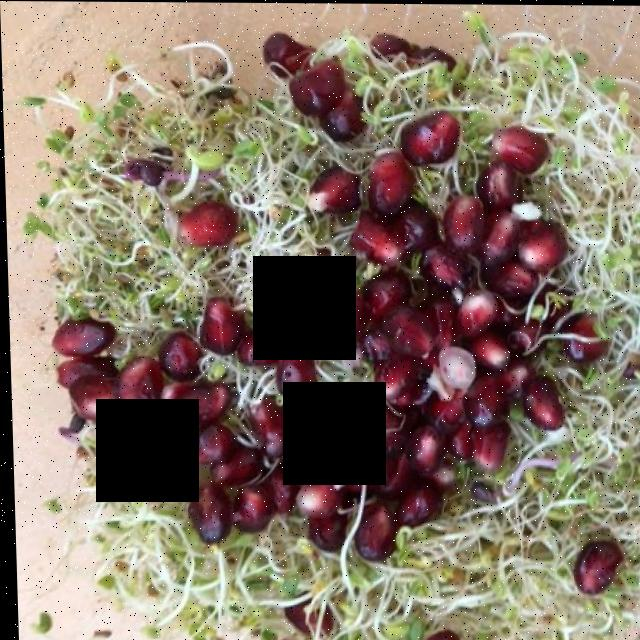pomegranate: (55, 36, 592, 560)
shoots: (28, 40, 640, 635)
